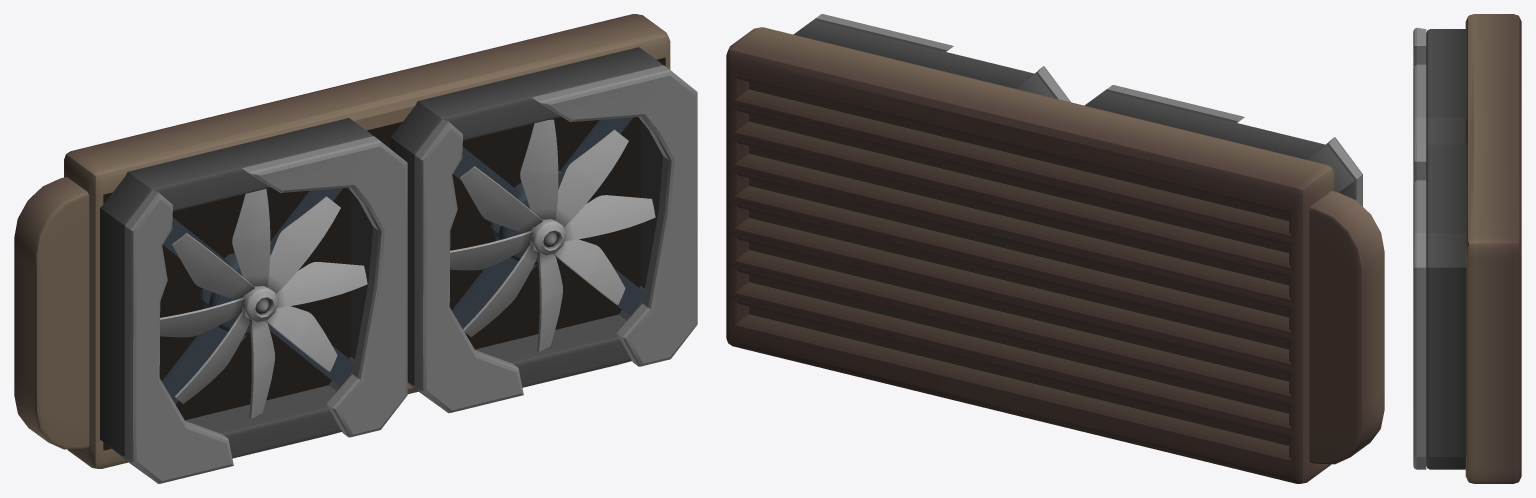
File: Cooling_systems_lvl_10_V06.fbx
3 renders of one model, left to right at view 1: azimuth 30°, elevation 25°; view 2: azimuth 150°, elevation 25°; view 3: azimuth 270°, elevation 25°, orthographic. The views are drawn at different scales.
Parts seen in each view (by area): view 1: Body_Cooling, Fan_Cooling_01.001, Fan_Cooling_01; view 2: Body_Cooling; view 3: Body_Cooling.
Boxes of the visible parts, bbox=[...] form: Body_Cooling: bbox=[14, 14, 697, 483]; Fan_Cooling_01.001: bbox=[450, 119, 655, 351]; Fan_Cooling_01: bbox=[160, 189, 367, 418]; Body_Cooling: bbox=[726, 14, 1384, 483]; Body_Cooling: bbox=[1413, 14, 1521, 483].
Size of the model in its own units: 119 by 53.89 by 21.63.
